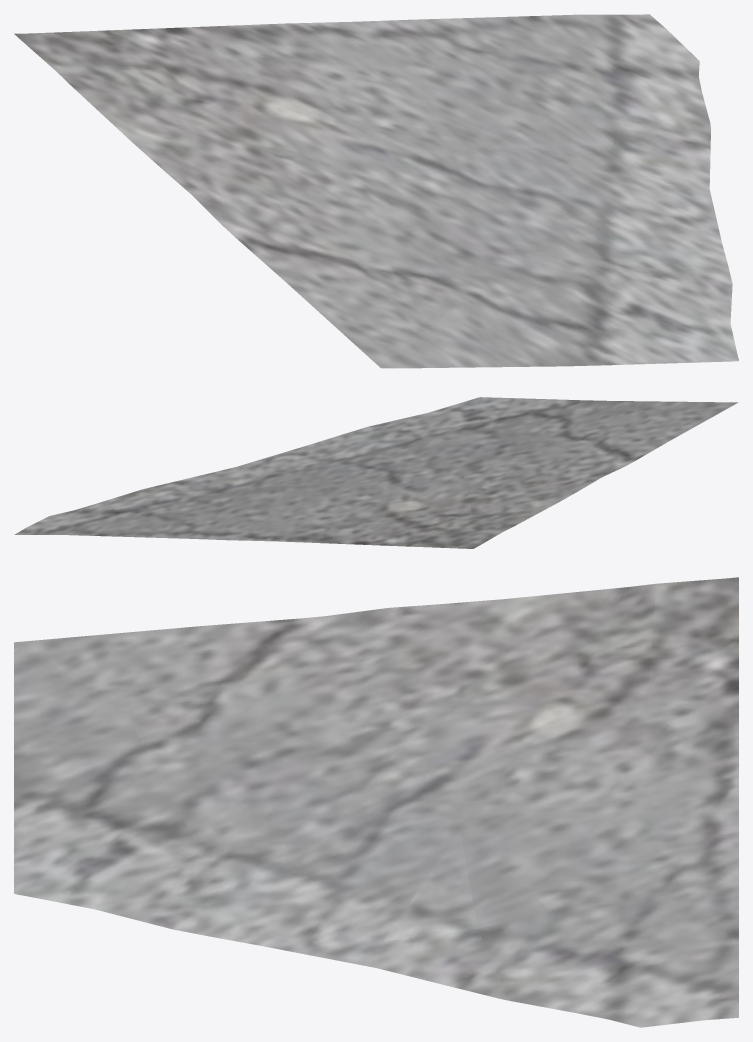
The picture shows the model from 3 angles, top to bottom: view 1: azimuth 30°, elevation 25°; view 2: azimuth 150°, elevation 25°; view 3: azimuth 270°, elevation 25°; orthographic projection. The views are drawn at different scales.
Bounding box in the file's own units: 0.8374 × 0.1837 × 0.8374.
Materials: 2 (2 with a texture image).
